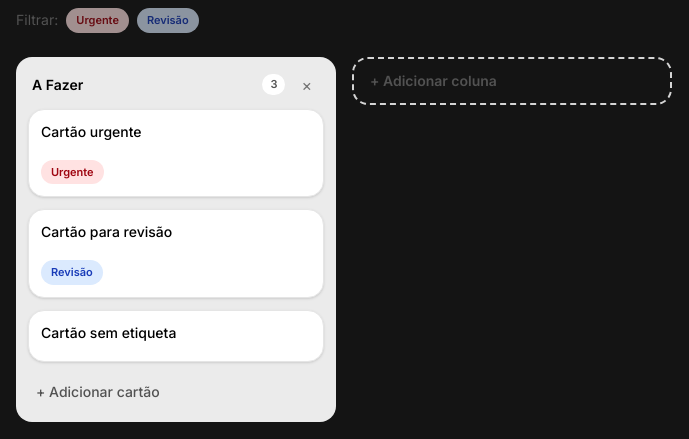
Test: barra de filtro no quadro › filtra um de três cartões, informa o contador e limpar volta a mostrar tudo
Expected: the number of buttons "Cartão urgente" is 3, top-left (41, 122), bottom-right (242, 142); top-left (41, 222), bottom-right (242, 242); top-left (41, 322), bottom-right (242, 342)
Expected: the button "Limpar filtro" is not shown
Click the button "Urgente" at (98, 20), box top-left (66, 8), bottom-right (129, 32)
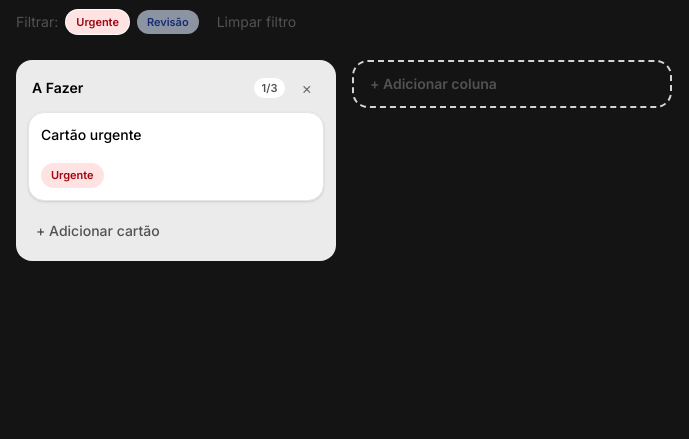
Expected: the number of buttons "Cartão urgente" is 1, top-left (41, 125), bottom-right (242, 145)
Expected: the button "Cartão para revisão" is gone
Expected: the button "Cartão sem etiqueta" is gone
Click the button "Limpar filtro" at (256, 22), box top-left (207, 8), bottom-right (306, 36)
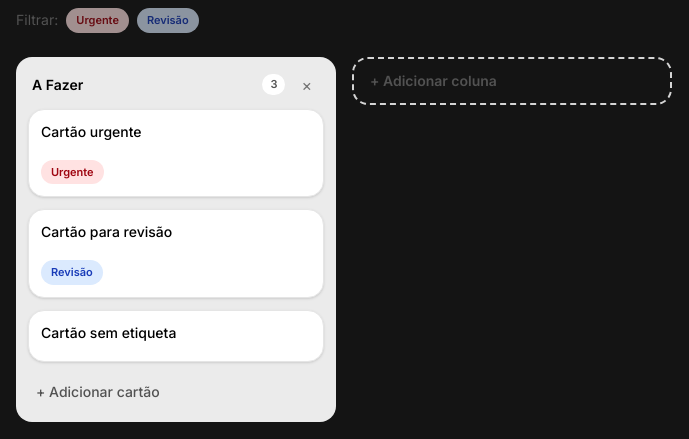
Expected: the text "3" is shown, top-left (262, 74), bottom-right (285, 95)
Expected: the number of buttons "Cartão urgente" is 3, top-left (41, 122), bottom-right (242, 142); top-left (41, 222), bottom-right (242, 242); top-left (41, 322), bottom-right (242, 342)
Expected: the button "Limpar filtro" is gone
